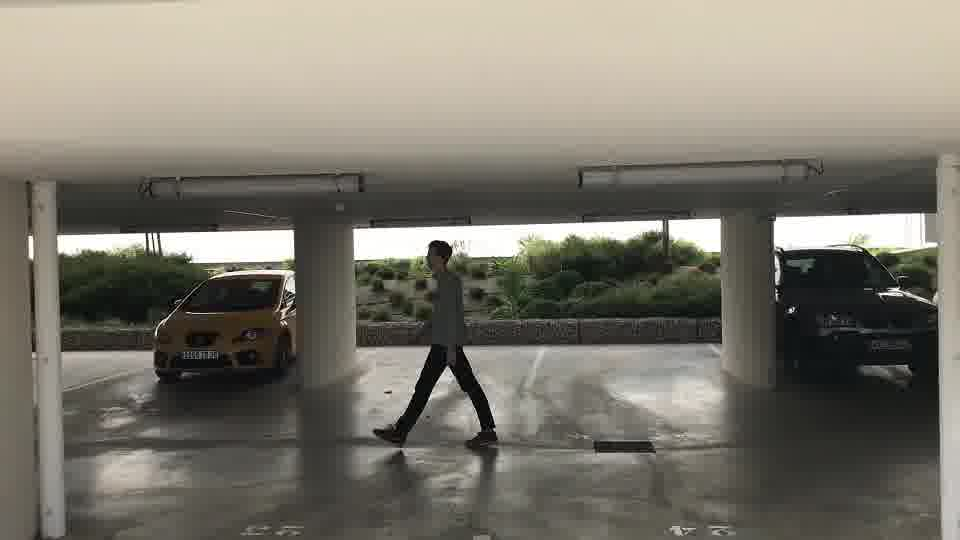jugador: (367, 235, 501, 454)
